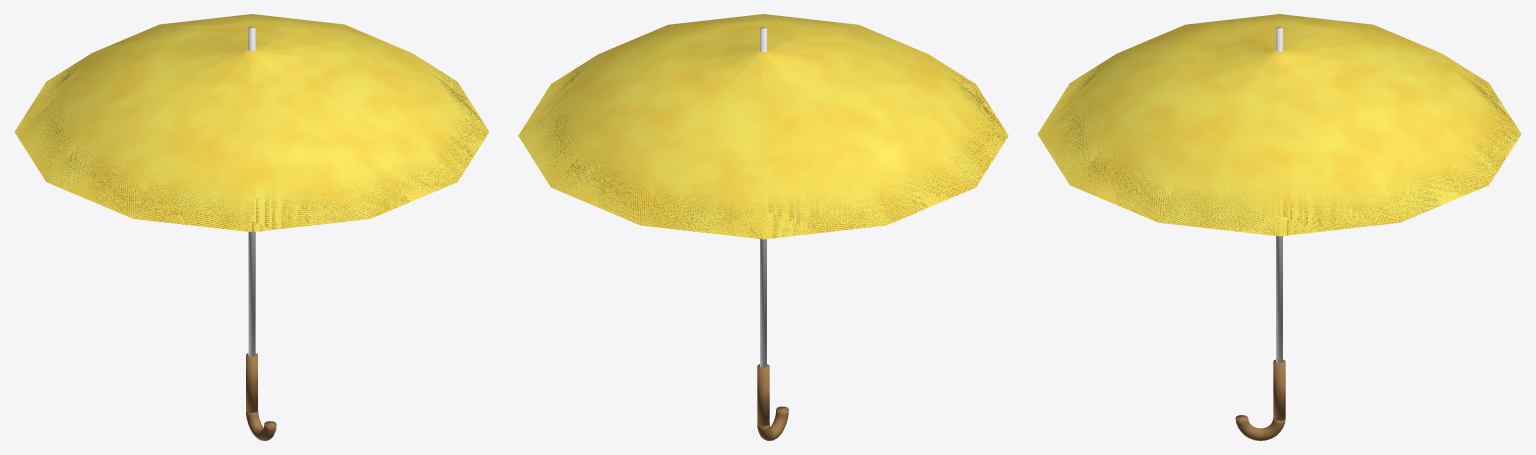
File: payung.fbx
3 views of the same model, side by side, from view 1: azimuth 30°, elevation 25°; view 2: azimuth 150°, elevation 25°; view 3: azimuth 270°, elevation 25° (orthographic). The views are drawn at different scales.
Visible parts, largest first — view 1: payung; view 2: payung; view 3: payung.
Boxes of the visible parts, x1,y1,x2,y2 form: payung: [14, 14, 489, 440]; payung: [518, 14, 1008, 440]; payung: [1037, 14, 1521, 440].
Bounding box in the file's own units: 108 × 101 × 108.
1 material, 1 textured.
